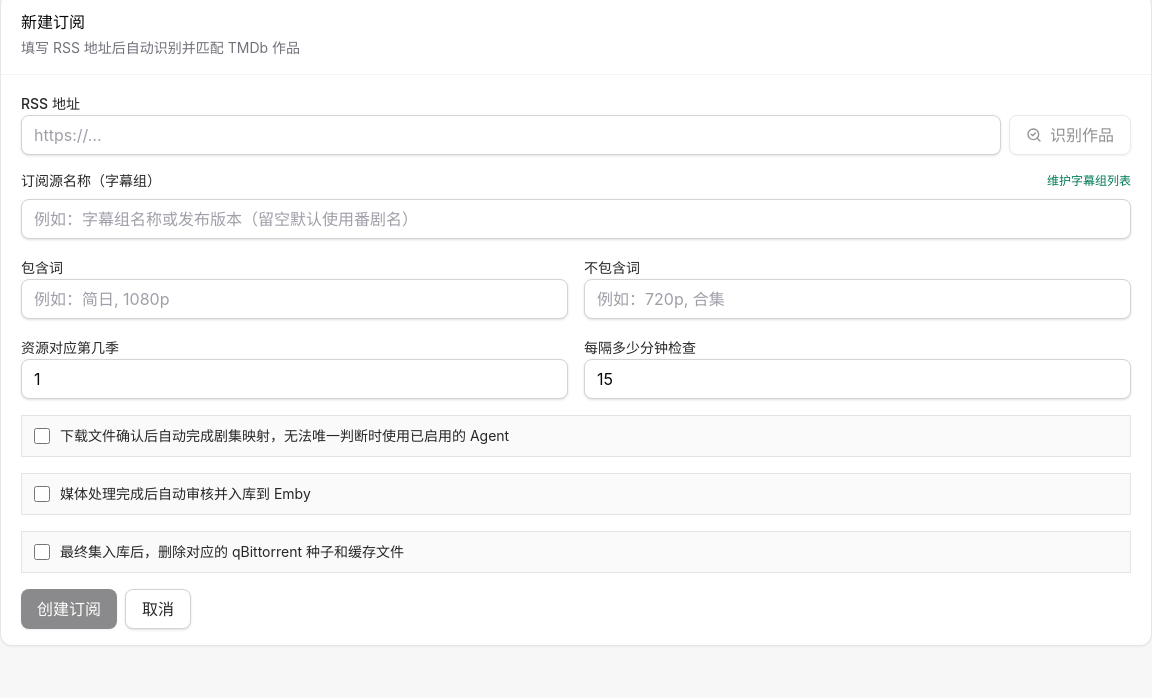
Scenario: CreateSubscriptionForm › lets the user correct the keyword when the automatic match finds nothing
Type "https://feeds.example.test/show.xml" into the field labelled "RSS 地址" at (511, 135), box [21,115,1001,155]
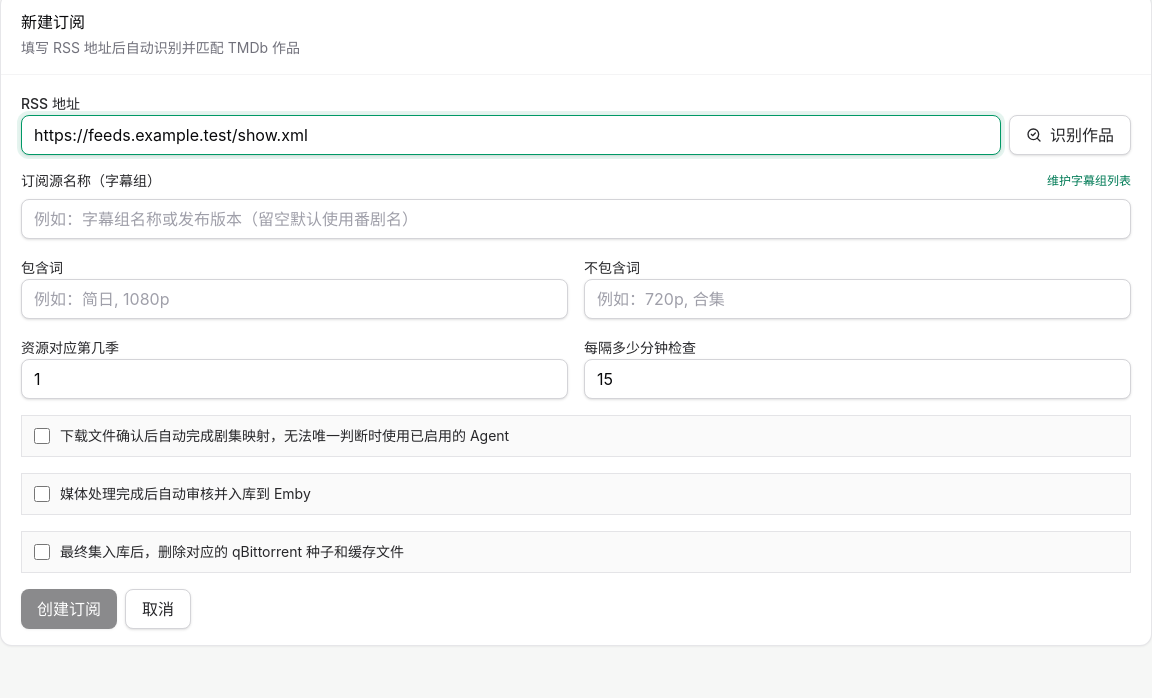
Click the button "识别作品" at (1070, 135), box [1009,115,1131,155]
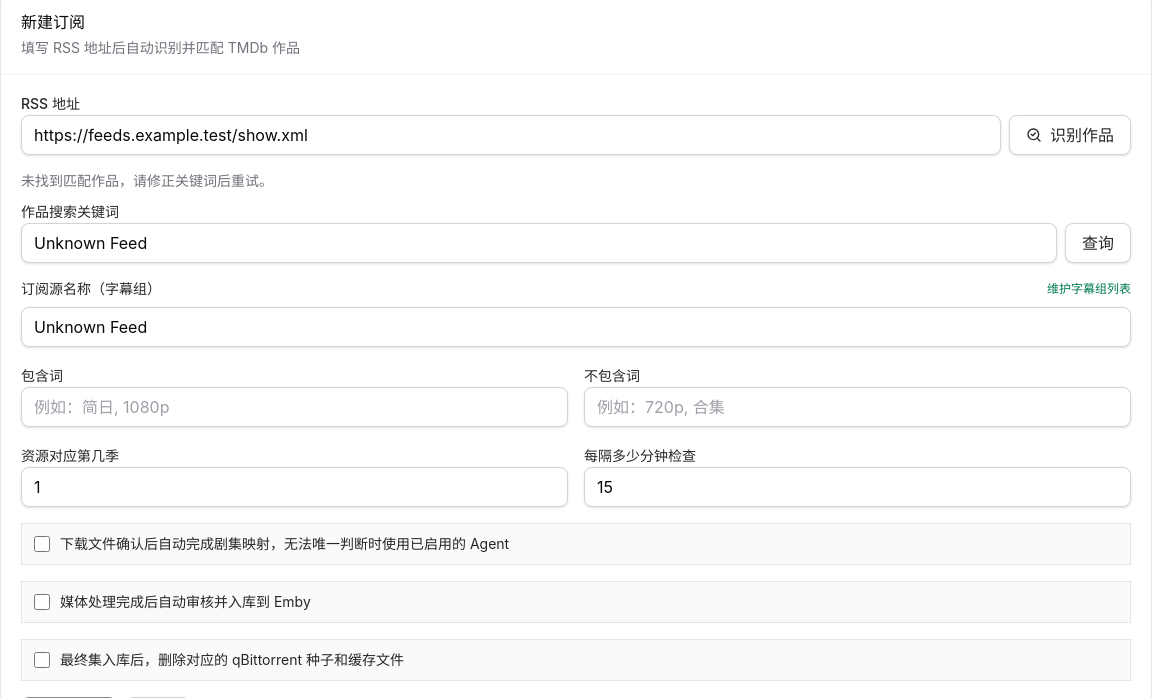
Result: the text "未找到匹配作品，请修正关键词后重试。" is shown at [21,172,273,189]
Replace the text in the field labelled "作品搜索关键词" with "修正后的名字" at (539, 243), box [21,223,1057,263]
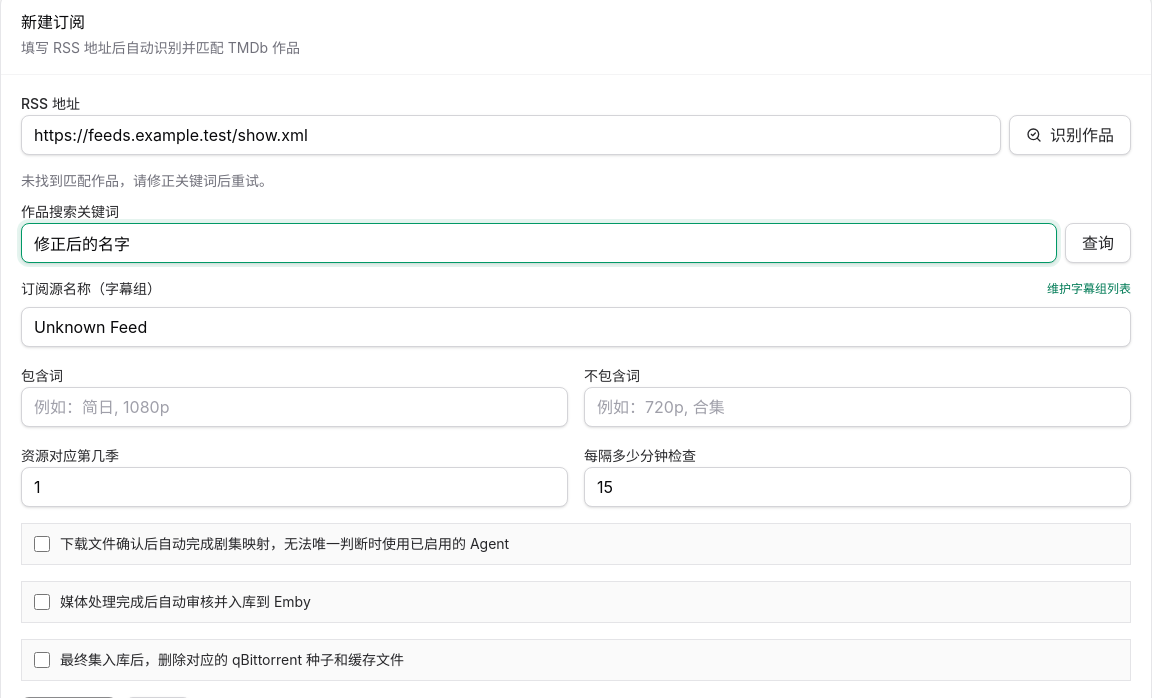
Click the button "查询" at (1098, 243), box [1065,223,1131,263]
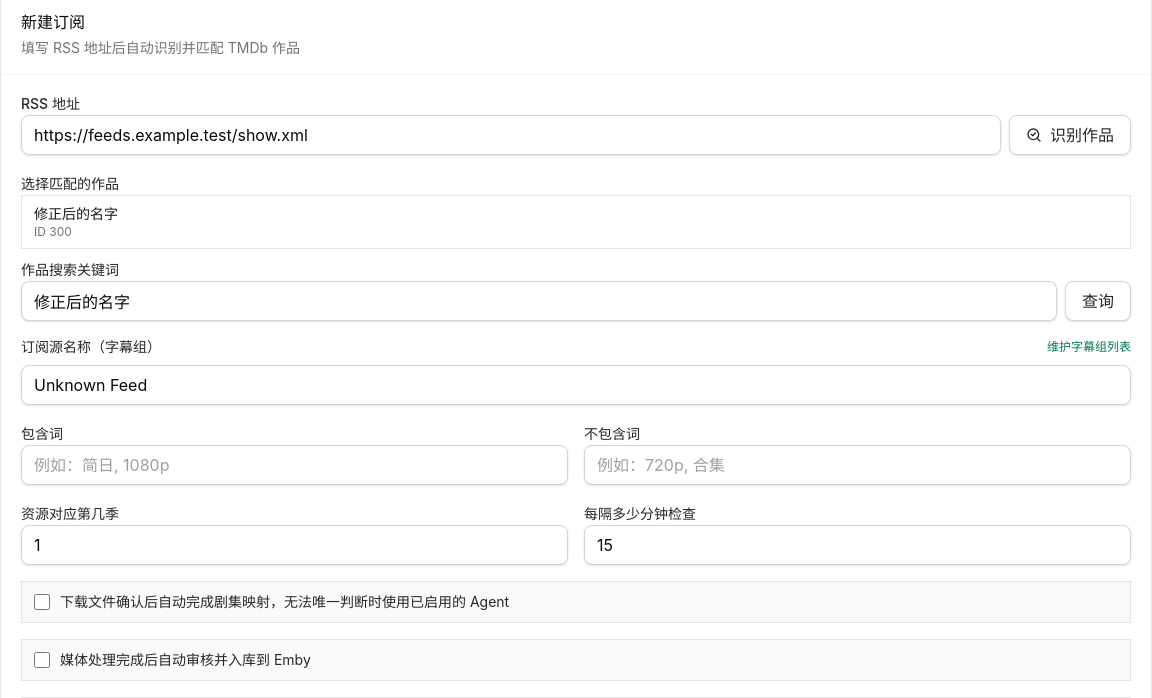
Click the button "修正后的名字 ID 300" at (76, 214), box [22,196,1130,248]
(page scrolled)
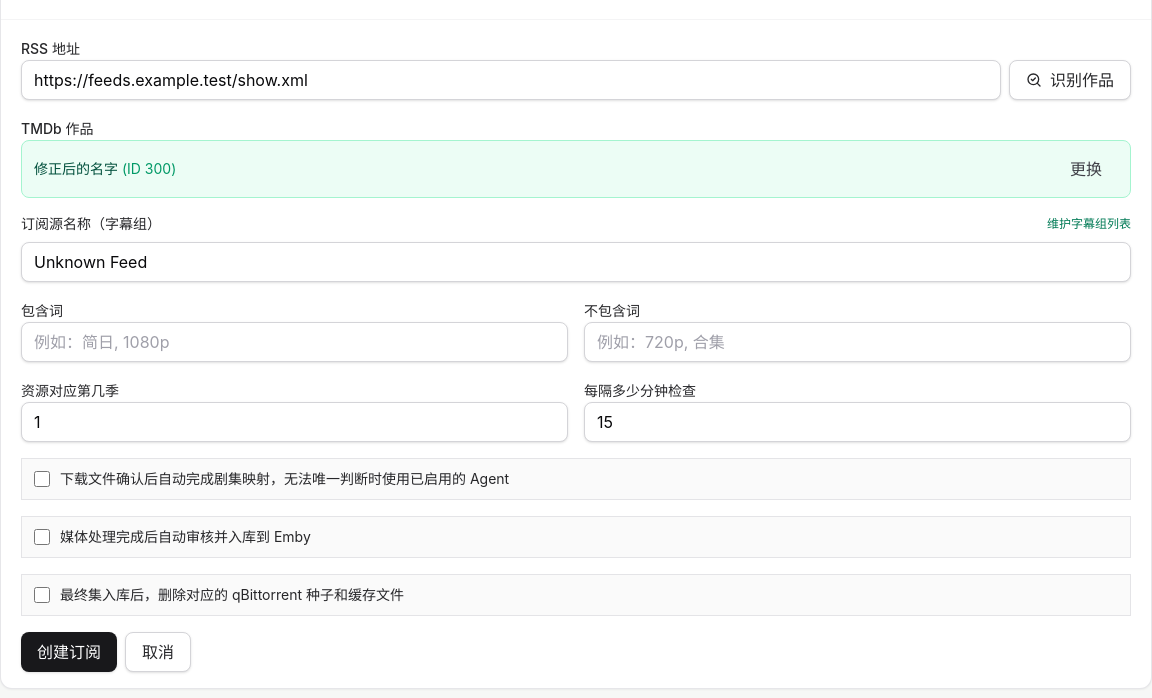
Result: the button "创建订阅" is enabled at [21,632,117,672]
